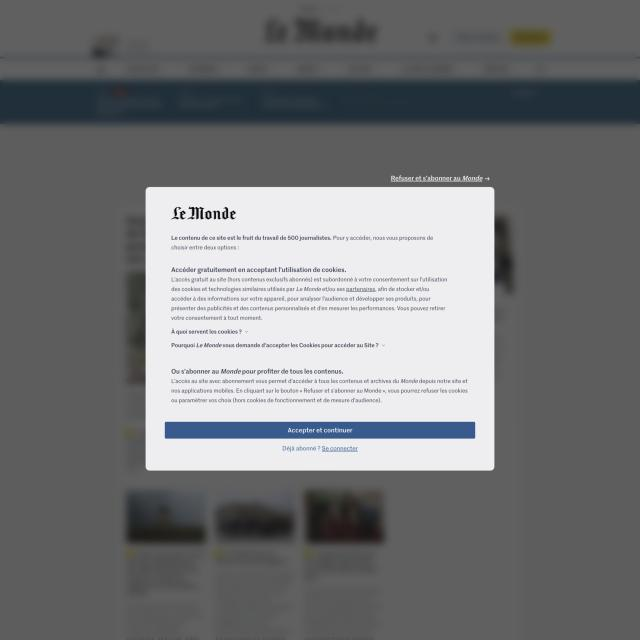logo: (168, 201, 238, 226)
